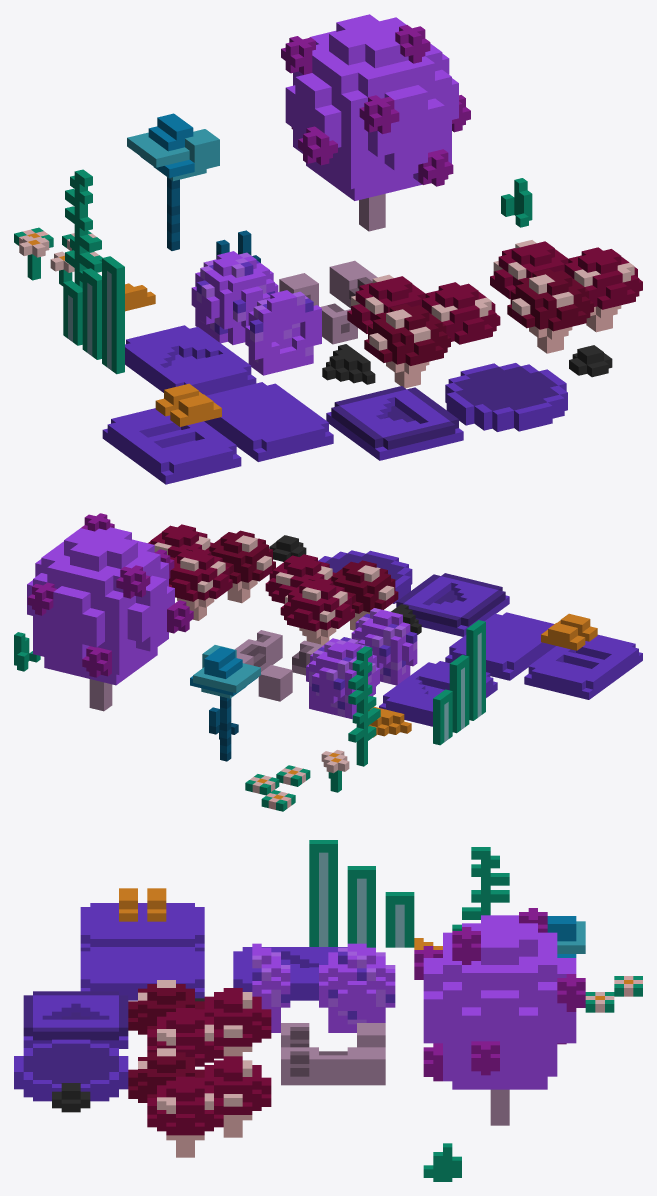
Rendered from joystick-1.obj.
3 views of the same model, one above another, from view 1: azimuth 30°, elevation 25°; view 2: azimuth 150°, elevation 25°; view 3: azimuth 270°, elevation 25° (orthographic). The views are drawn at different scales.
Size of the model in its own units: 6.5 by 2.3 by 6.6.
1 material, 1 textured.
